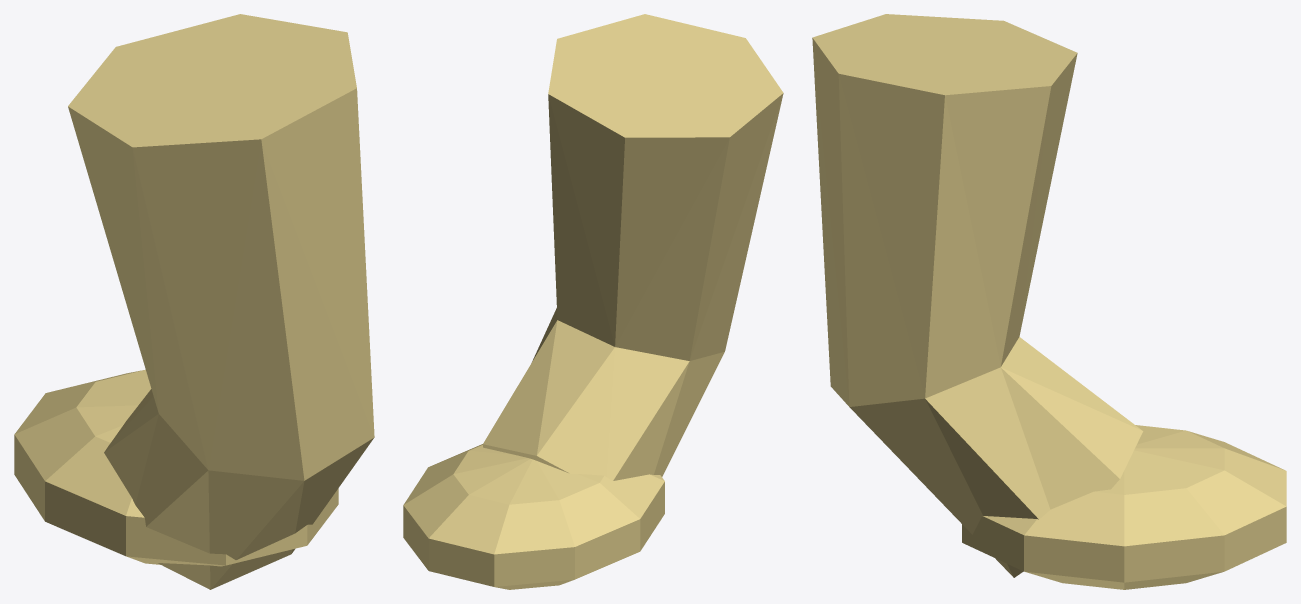
File: gorehulk_c_leg_1.obj
3 views of the same model, side by side, from view 1: azimuth 30°, elevation 25°; view 2: azimuth 150°, elevation 25°; view 3: azimuth 270°, elevation 25° (orthographic). The views are drawn at different scales.
Visible parts, largest first — view 1: gorehulk_c_leg_1; view 2: gorehulk_c_leg_1; view 3: gorehulk_c_leg_1.
Boxes of the visible parts, x1=… form: gorehulk_c_leg_1: x1=14, y1=14, x2=374, y2=589; gorehulk_c_leg_1: x1=403, y1=14, x2=783, y2=589; gorehulk_c_leg_1: x1=812, y1=14, x2=1286, y2=589.
Size of the model in its own units: 0.3208 by 0.5576 by 0.4759.
